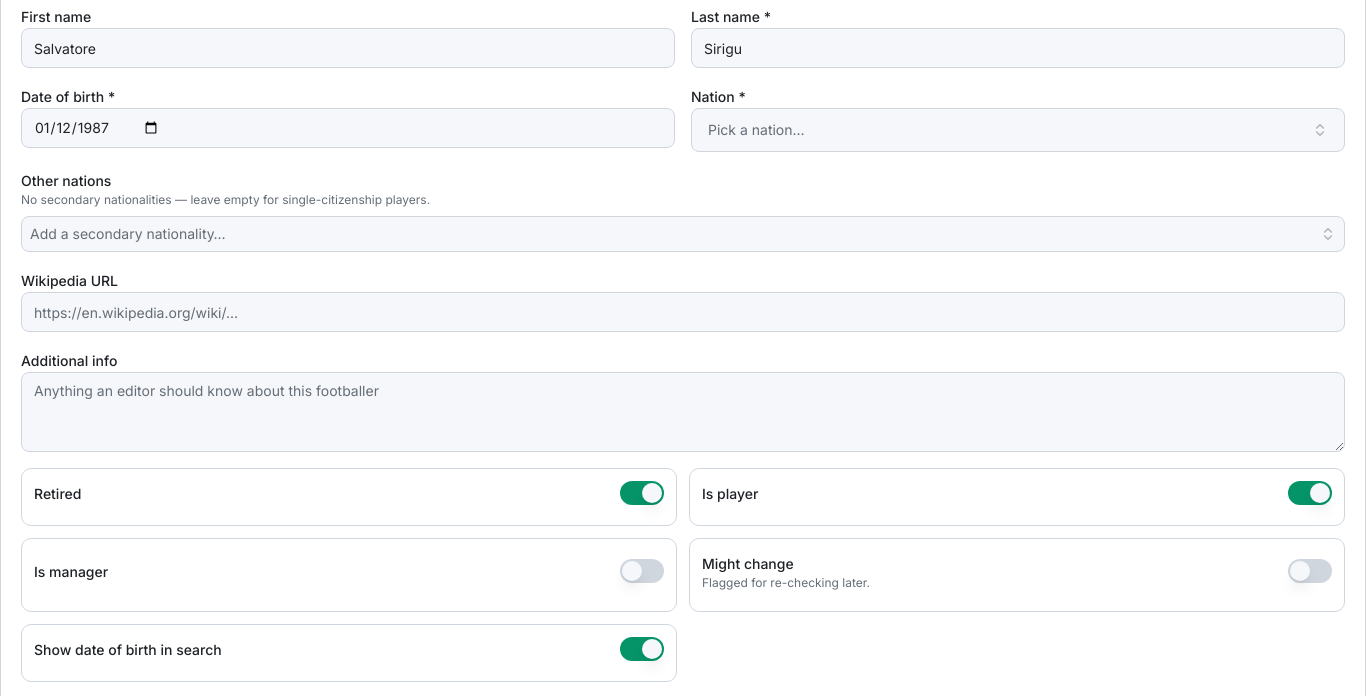
Test: updateFootballer › refuses a wikipedia value that is not a URL
(page scrolled)
Type "en.wikipedia.org" into the field labelled "Wikipedia URL" at (683, 312), box [21, 292, 1345, 332]
(page scrolled)
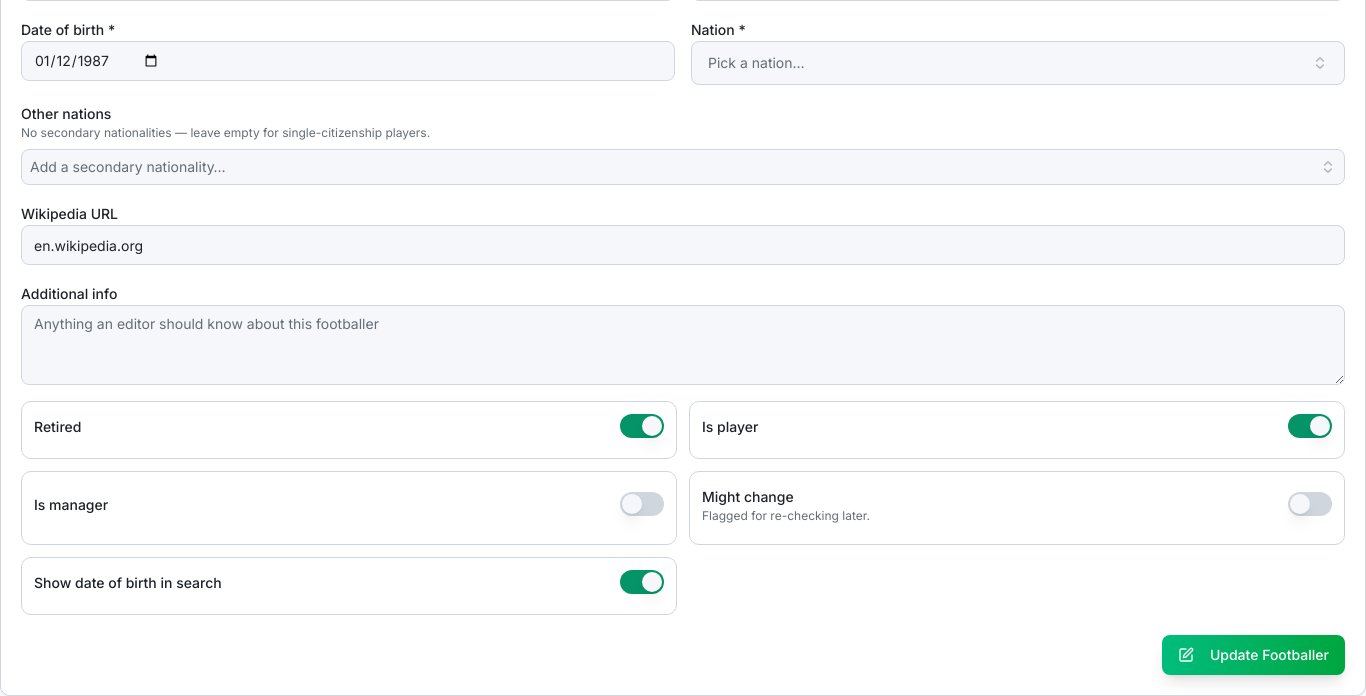
Click the button "Update Footballer" at (1253, 655), box [1162, 635, 1345, 675]
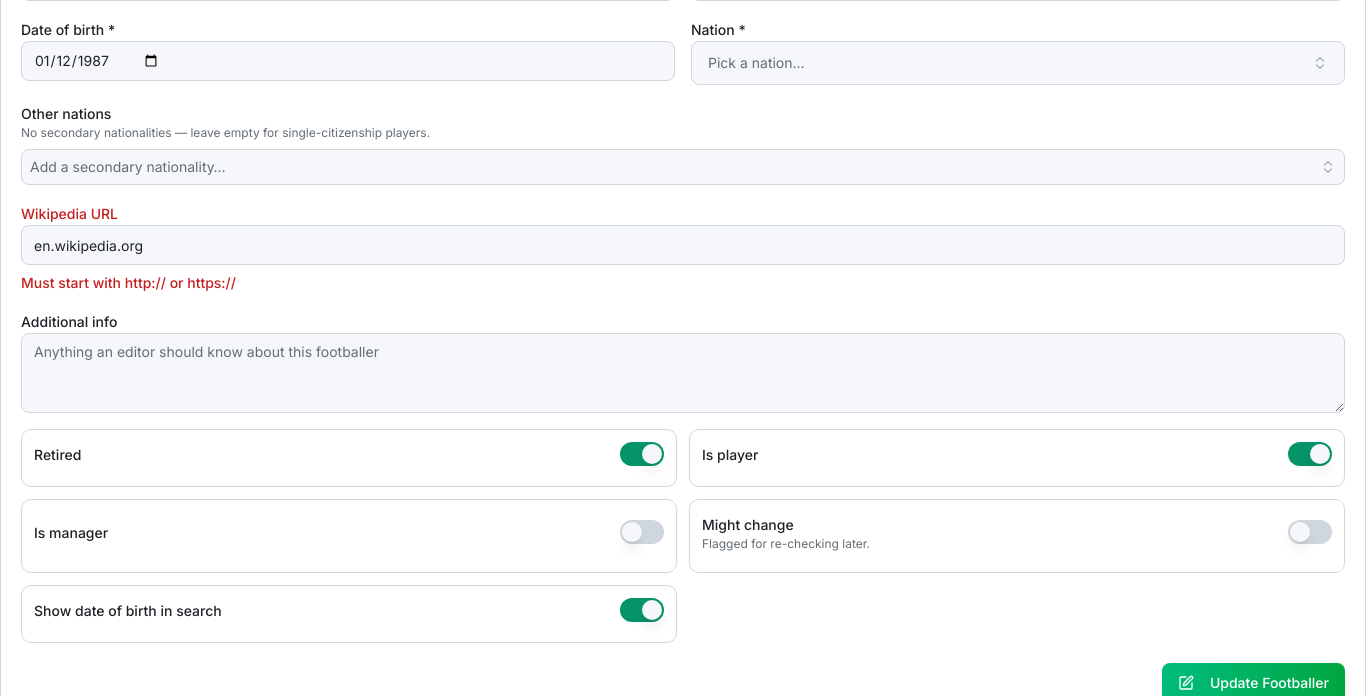
Check: the text "Must start with http:// or https://" is shown, box [21, 274, 236, 291]
